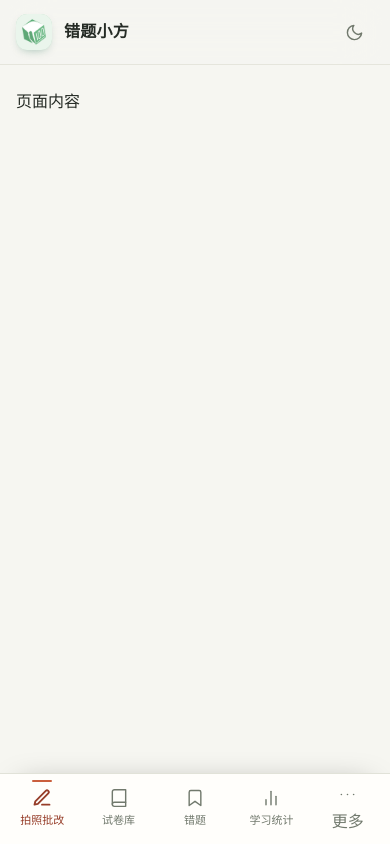
Test: opens secondary teacher navigation as a dismissible mobile sheet
Expected: the navigation bar named "移动端主导航" is shown, [0, 773, 389, 843]
Click the button with aria-label "打开更多功能". click: (348, 808)
box: [310, 780, 386, 836]
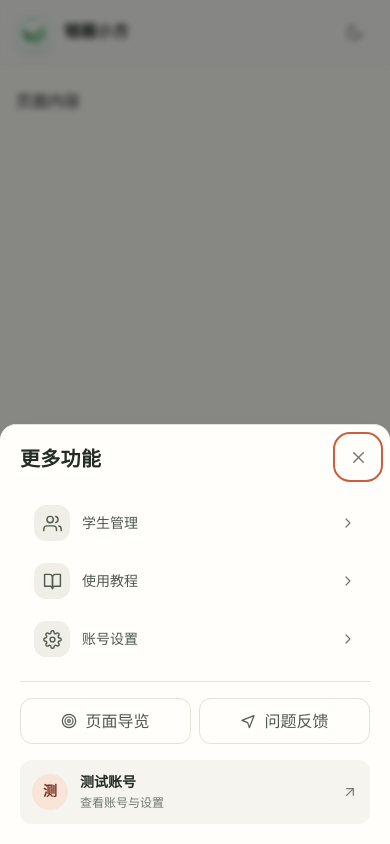
Expected: the link "学生管理" is shown, [20, 497, 370, 549]
Expected: the button "页面导览" is shown, [20, 698, 191, 744]
Press Escape
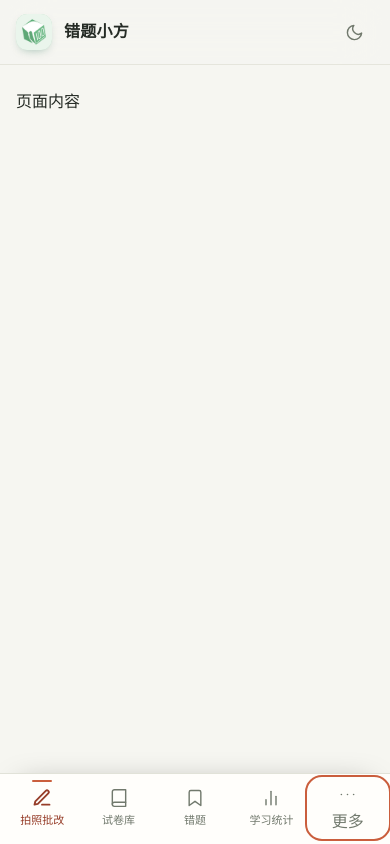
Expected: the heading "更多功能" is gone
